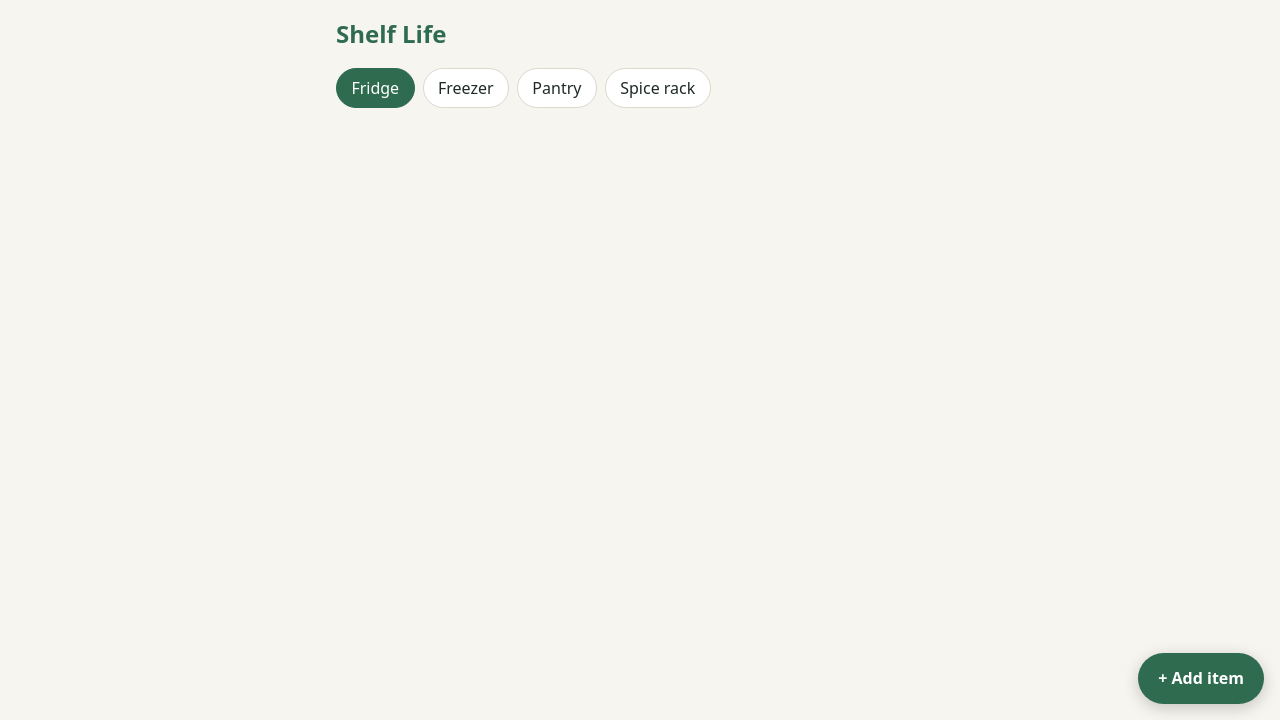
Inventory screens › adds an item to the open location and shows it at once (Req 1.1, 1.2)
Click the tab "Pantry": (557, 88) top-left (517, 68), bottom-right (597, 108)
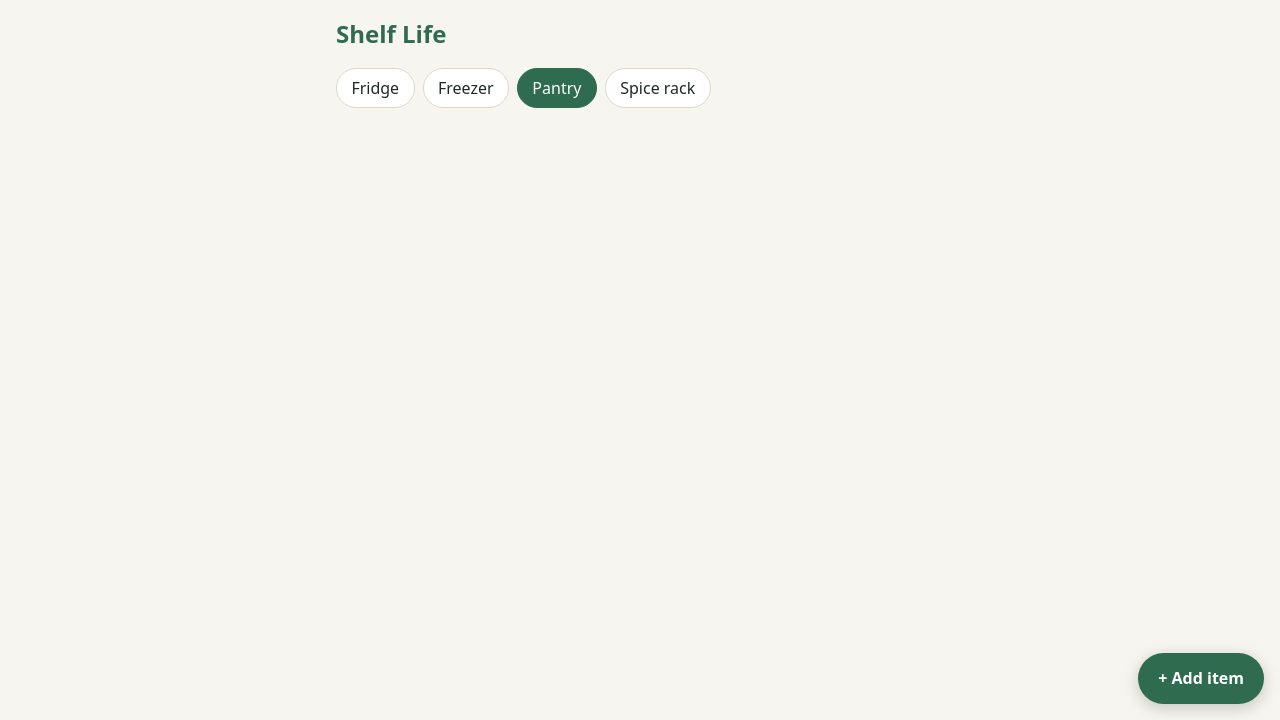
Click the button "+ Add item": (1201, 678) top-left (1138, 653), bottom-right (1264, 704)
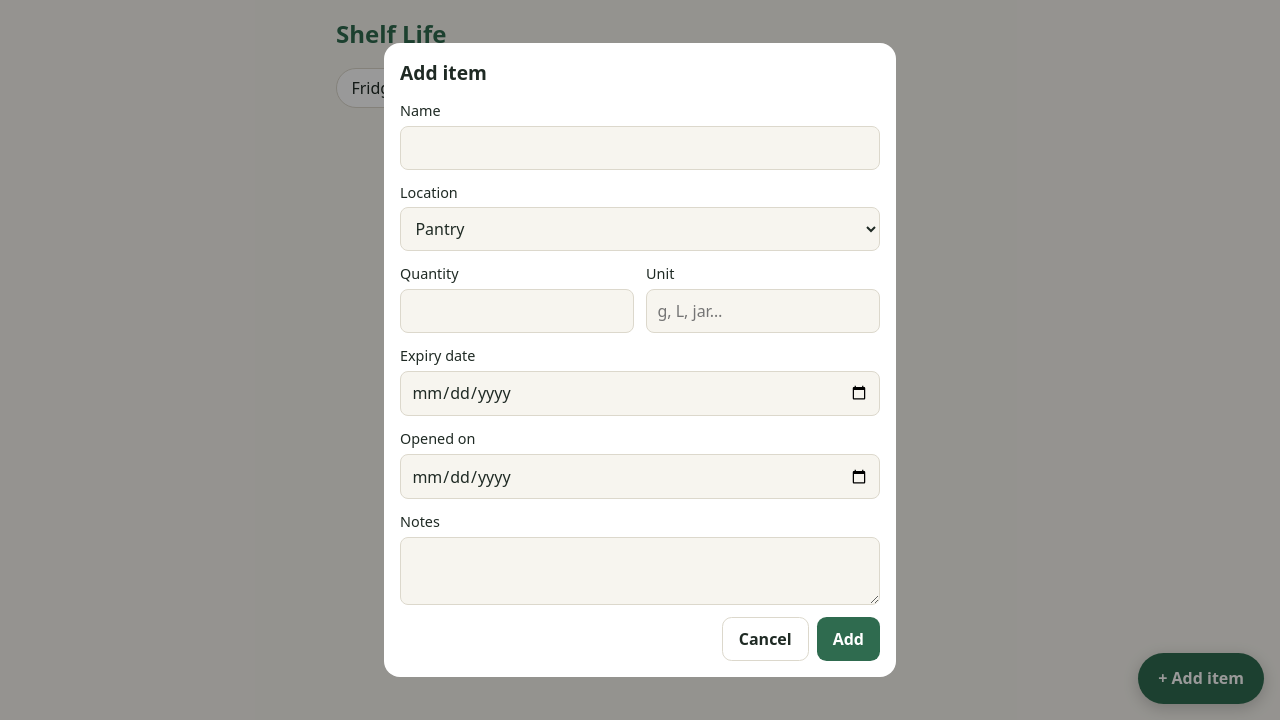
Check: the dropdown labelled "Location" shows "Pantry", box top-left (400, 207), bottom-right (880, 251)
In the field labelled "Name": (640, 148) top-left (400, 126), bottom-right (880, 170), type " Rice "
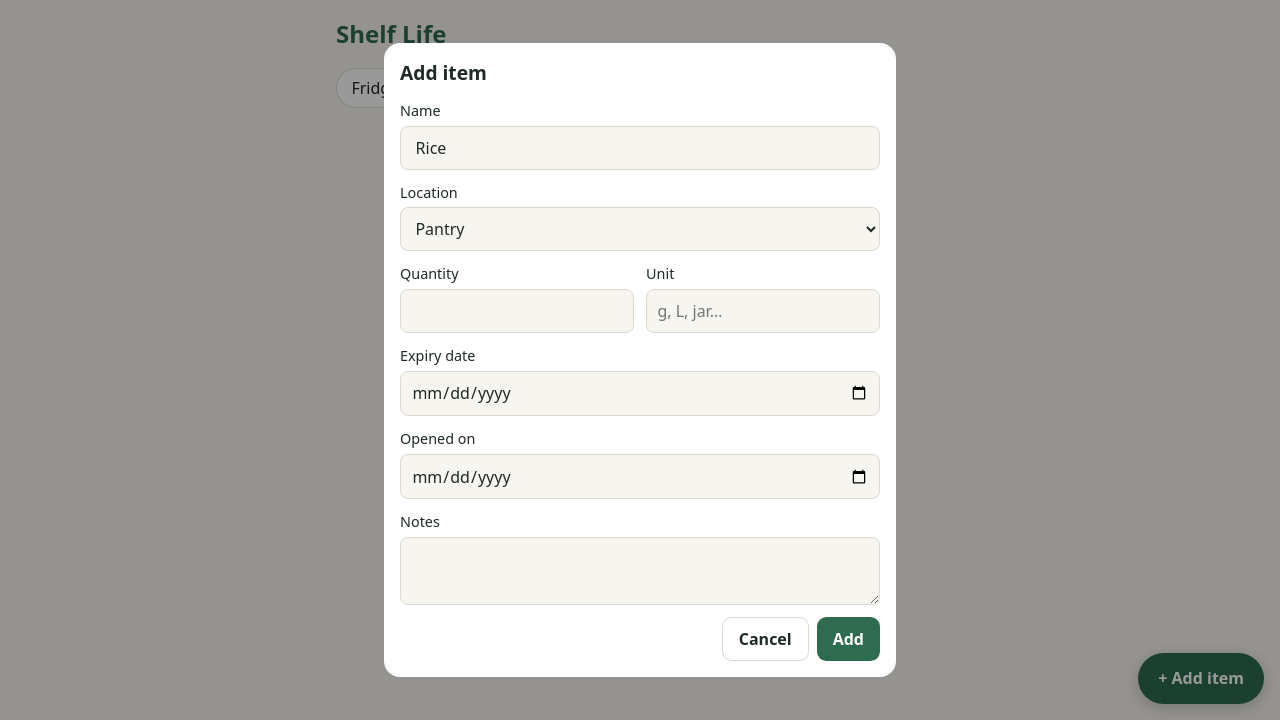
In the number field labelled "Quantity": (517, 311) top-left (400, 289), bottom-right (634, 333), type "2"
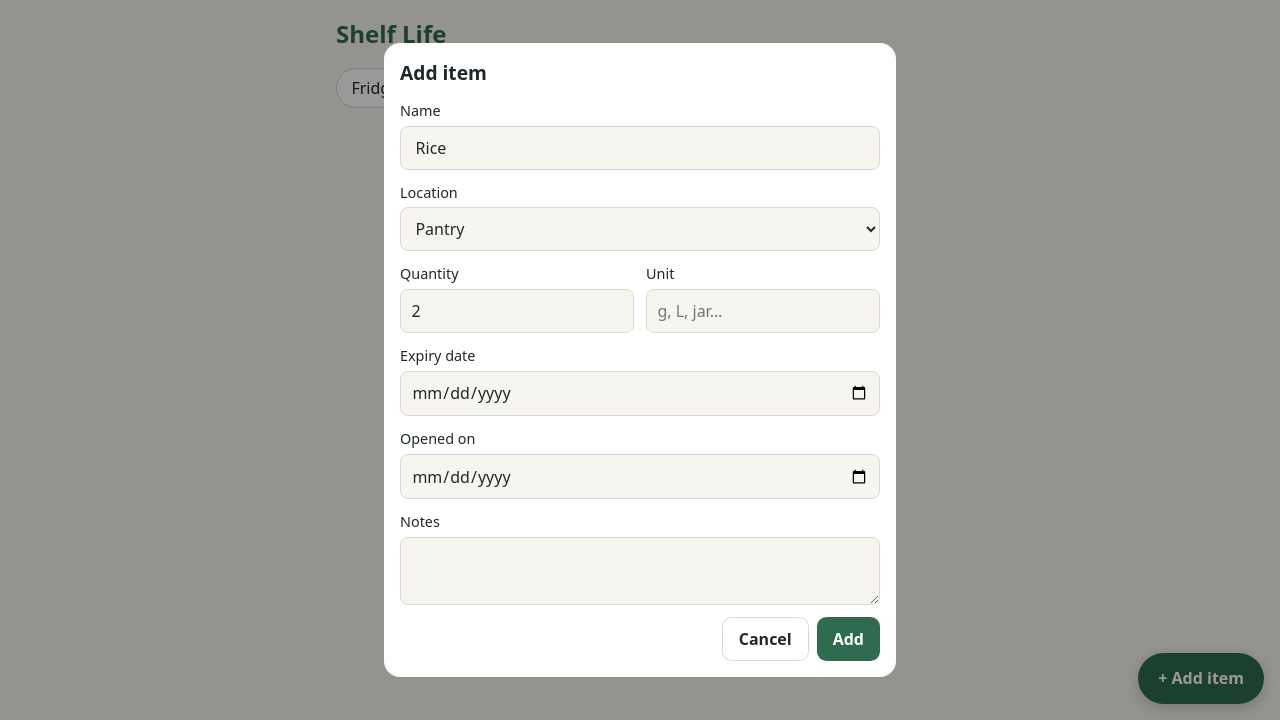
In the field labelled "Unit": (763, 311) top-left (646, 289), bottom-right (880, 333), type "kg"
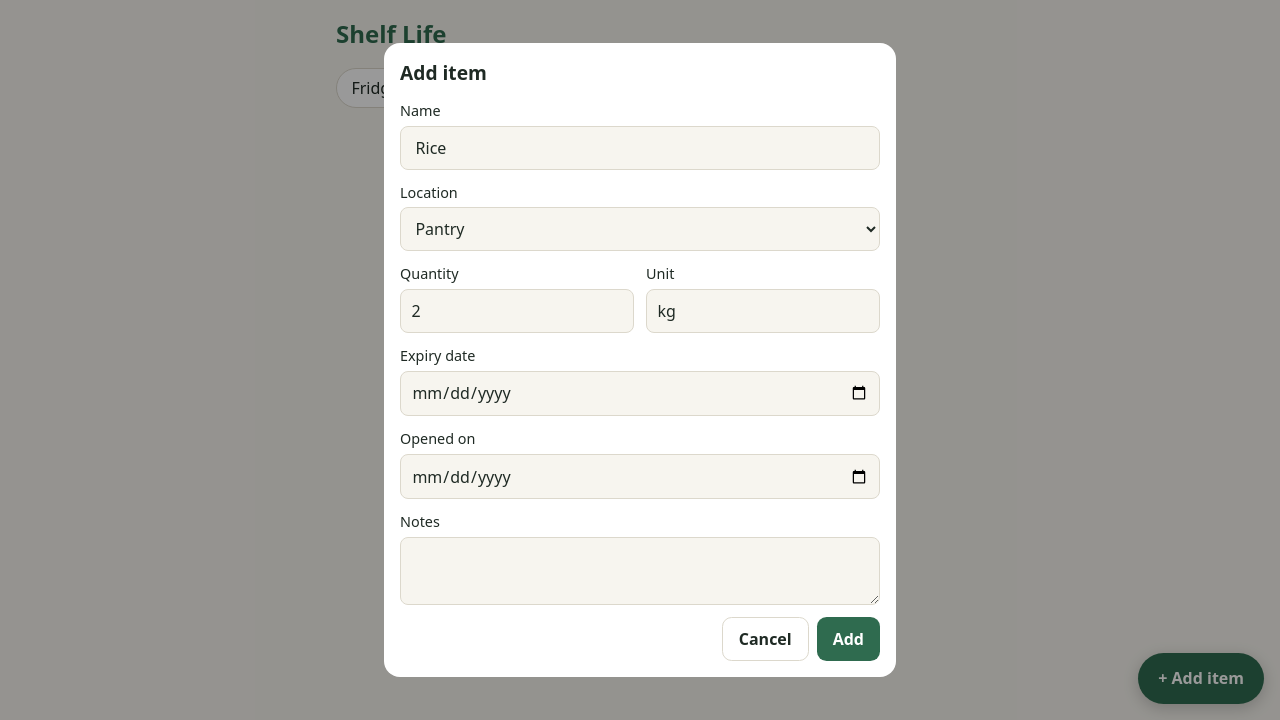
Click the button "Add": (848, 639) top-left (817, 617), bottom-right (880, 661)
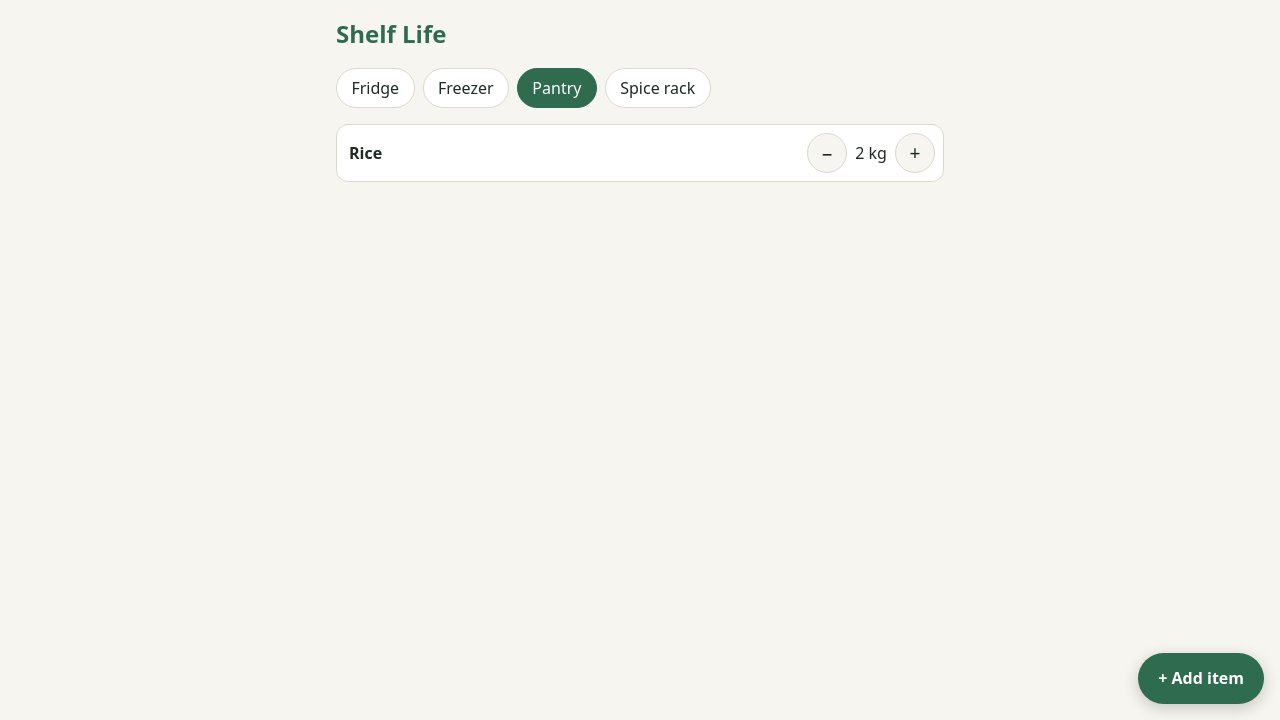
Check: the list item "Rice" shows "2 kg", box top-left (855, 142), bottom-right (887, 164)
Check: the dialog is gone
